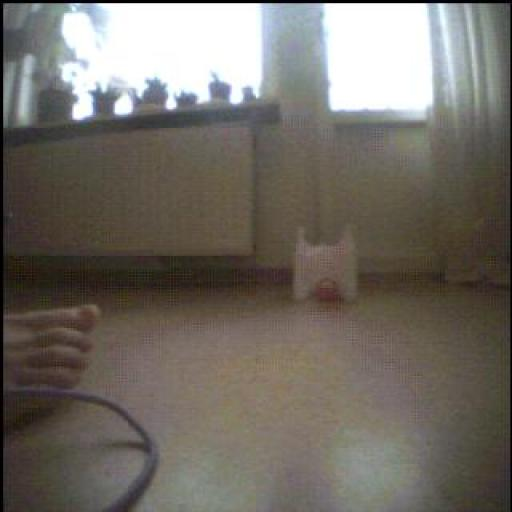Basket: (316, 279, 342, 302)
